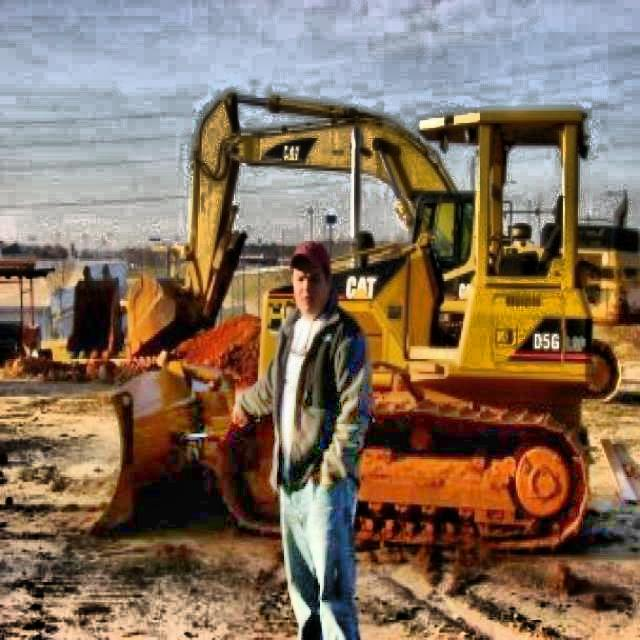bull_dozer/loader/grader: (87, 88, 624, 558)
person: (228, 239, 376, 640)
